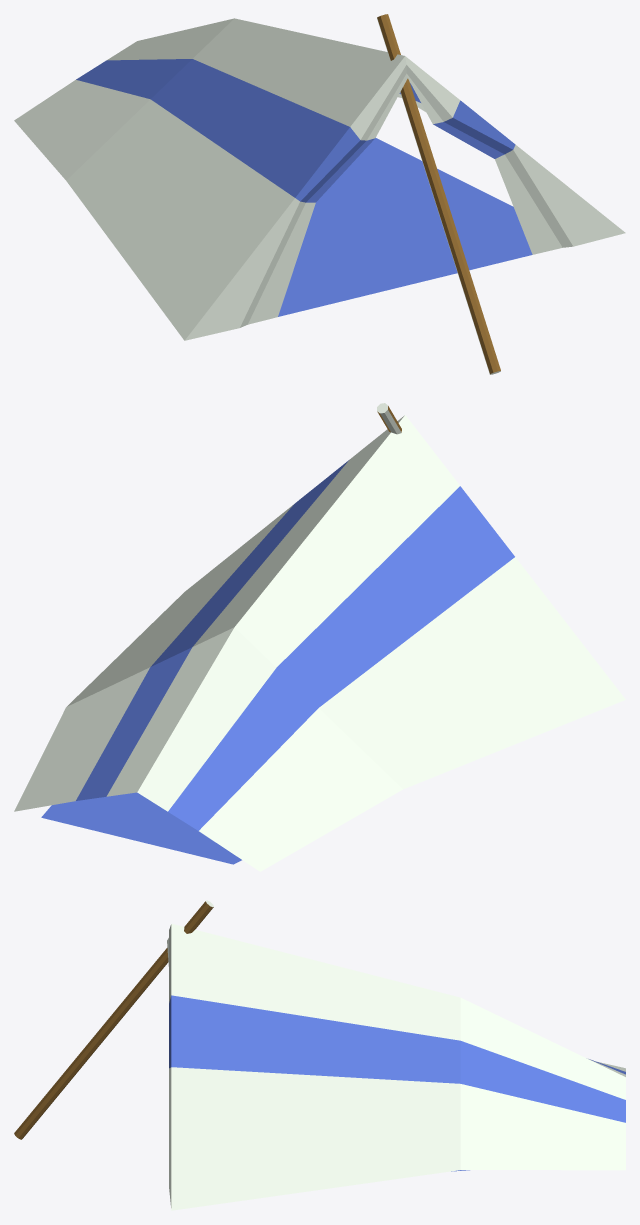
The model's file is Tent_S_Blue.fbx.
3 renders of one model, top to bottom at view 1: azimuth 30°, elevation 25°; view 2: azimuth 150°, elevation 25°; view 3: azimuth 270°, elevation 25°, orthographic. The views are drawn at different scales.
Visible parts, largest first — view 1: Tent_S_Blue; view 2: Tent_S_Blue; view 3: Tent_S_Blue.
Part boxes in pixels (x1,y1,x2,y2): Tent_S_Blue: (14,14,625,374); Tent_S_Blue: (14,403,625,871); Tent_S_Blue: (14,900,625,1210).
Bounding box in the file's own units: 283 × 172 × 400.
